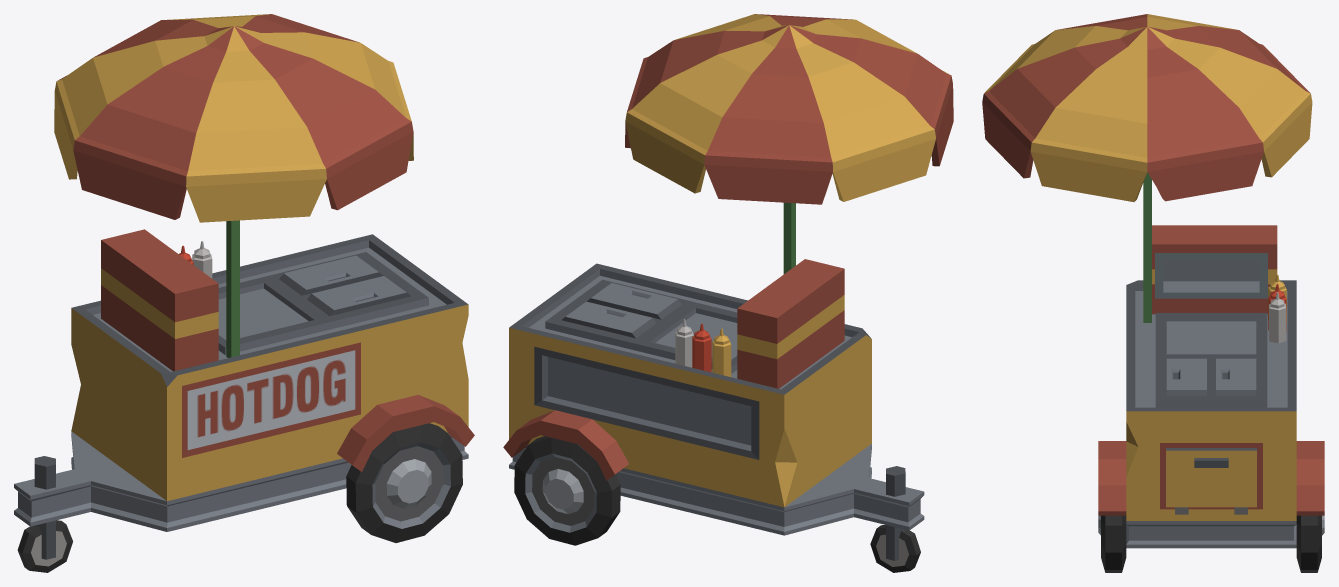
File: HotdogStand.fbx
3 renders of one model, left to right at view 1: azimuth 30°, elevation 25°; view 2: azimuth 150°, elevation 25°; view 3: azimuth 270°, elevation 25°, orthographic. The views are drawn at different scales.
Visible parts, largest first — view 1: HotdogStand; view 2: HotdogStand; view 3: HotdogStand.
Boxes of the visible parts, x1=… form: HotdogStand: x1=14, y1=14, x2=474, y2=572; HotdogStand: x1=503, y1=14, x2=953, y2=572; HotdogStand: x1=982, y1=14, x2=1324, y2=572.
Bounding box in the file's own units: 195 × 242 × 158.
1 material, 1 textured.
